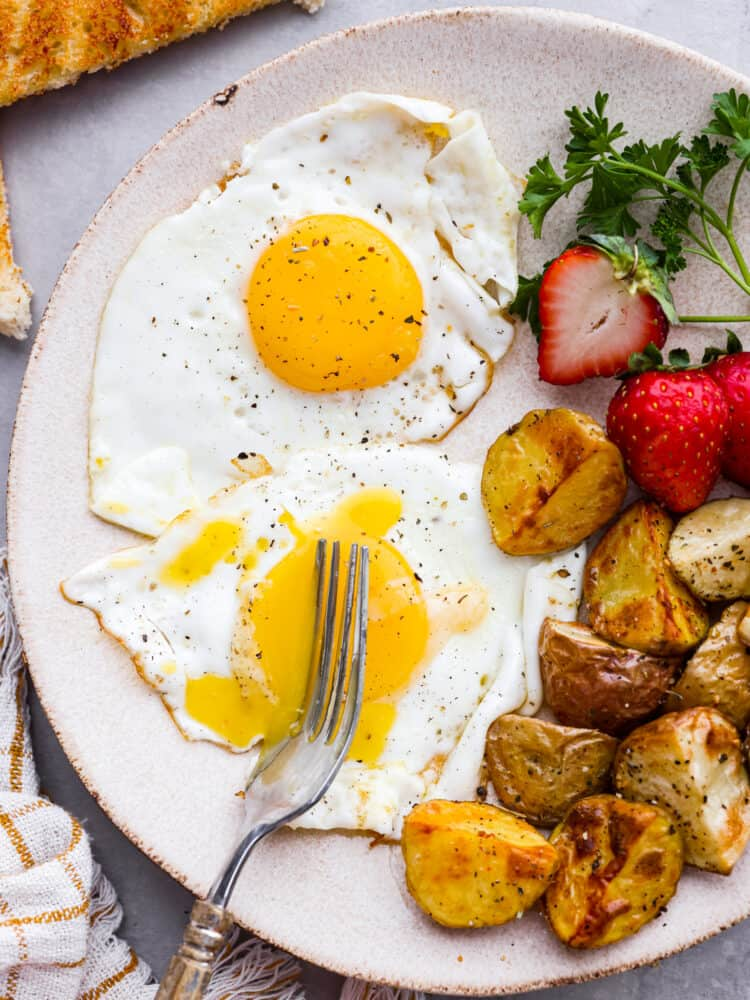Sunny Side Up: (82, 92, 517, 521)
